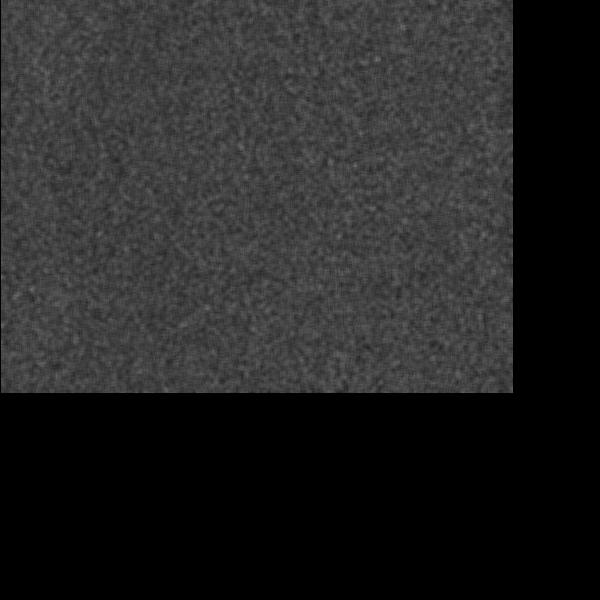spark: (193, 1, 232, 70), (131, 310, 164, 365), (288, 131, 318, 190), (457, 321, 490, 365), (283, 380, 322, 393)
